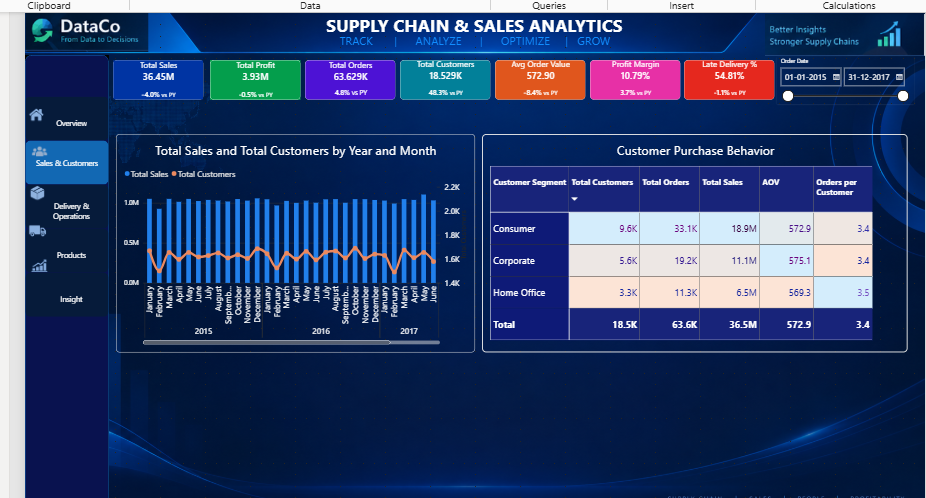

What the dashboard file says about the page in this screenshot:
{"tool":"powerbi","page":{"name":"Sales & Customers","canvas":[1920,1080],"ordinal":1},"visuals":[{"type":"textbox","box":[488,0,940.8,83.2],"z":0},{"type":"group","id":"g1","title":"Group 10","box":[0,88.7,179.2,980],"z":0,"group":"g2"},{"type":"shape","box":[0,88.7,178.7,980],"z":500,"group":"g1"},{"type":"textbox","box":[535.5,42.7,849.1,40.5],"z":1000},{"type":"image","box":[6.4,275.2,50,40],"z":1000,"group":"g2"},{"type":"image","box":[0,0,264.5,83.2],"z":2000},{"type":"slicer","fields":{"Values":["DateTable.Date"]},"box":[1604.2,94.2,292,100],"z":2000},{"type":"image","box":[4.3,192,40,50],"z":2000,"group":"g2"},{"type":"image","box":[1578.7,0,341.3,93.9],"z":3000},{"type":"image","box":[6.4,358.4,40,50],"z":3000,"group":"g2"},{"type":"cardVisual","fields":{"Data":["public dataco_raw.Profit Margin"]},"box":[1920,114.3,192.9,85.7],"z":4000},{"type":"image","box":[6.4,439.5,40,50],"z":4000,"group":"g2"},{"type":"lineStackedColumnComboChart","fields":{"Category":["public dataco_raw.order date (DateOrders).Variation.Date Hierarchy.Year","public dataco_raw.order date (DateOrders).Variation.Date Hierarchy.Month"],"Y":["public dataco_raw.Total Sales"],"Y2":["public dataco_raw.Total Customers"]},"box":[194.3,257.1,766,466],"z":5000},{"type":"image","box":[10.7,514.2,40,50],"z":5000,"group":"g2"},{"type":"pivotTable","title":"Customer Purchase Behavior","fields":{"Rows":["public dataco_raw.Customer Segment"],"Values":["public dataco_raw.Total Customers","Count(public dataco_raw.Order Id)","public dataco_raw.Total Sales","public dataco_raw.AOV","public dataco_raw.Orders per Customer"]},"box":[975.7,257.1,908,466],"z":6000},{"type":"group","id":"g2","title":"Group 11","box":[0,88.7,179.2,980],"z":8000},{"type":"pageNavigator","box":[0,176.9,179.2,475.7],"z":22000,"group":"g1"},{"type":"cardVisual","fields":{"Data":["Sum(public dataco_raw.Sales)"]},"box":[187.5,100.8,193,85],"z":31000},{"type":"cardVisual","fields":{"Data":["Sum(public dataco_raw.Order Profit Per Order)"]},"box":[394.2,100.8,193,85],"z":33000},{"type":"cardVisual","fields":{"Data":["Count(public dataco_raw.Order Id)"]},"box":[597.5,100.8,193,85],"z":35000},{"type":"cardVisual","fields":{"Data":["Count(public dataco_raw.Customer Id)"]},"box":[800.5,100.8,193,85],"z":37000},{"type":"cardVisual","fields":{"Data":["public dataco_raw.AOV"]},"box":[1002.5,100.8,193,85],"z":39000},{"type":"cardVisual","fields":{"Data":["public dataco_raw.Profit Margin"]},"box":[1205.8,100.8,193,85.7],"z":41000},{"type":"cardVisual","fields":{"Data":["public dataco_raw.Late Delivery %"]},"box":[1405.8,100.8,193,85.7],"z":44000}]}

Visuals, with their boxes on the page's 1920x1080 design canvas (x1, y1, x2, y2). These are canvas units, not pixel positions in the 926x498 screenshot, which may show the page scaled, cropped or inside an application window:
textbox: BBox(488, 0, 1429, 83)
"Group 10" group: BBox(0, 89, 179, 1069)
shape: BBox(0, 89, 179, 1069)
textbox: BBox(536, 43, 1385, 83)
image: BBox(6, 275, 56, 315)
image: BBox(0, 0, 264, 83)
slicer - DateTable.Date: BBox(1604, 94, 1896, 194)
image: BBox(4, 192, 44, 242)
image: BBox(1579, 0, 1920, 94)
image: BBox(6, 358, 46, 408)
cardVisual - public dataco_raw.Profit Margin: BBox(1920, 114, 2113, 200)
image: BBox(6, 440, 46, 490)
lineStackedColumnComboChart - public dataco_raw.order date (DateOrders).Variation.Date Hierarchy.Year x public dataco_raw.order date (DateOrders).Variation.Date Hierarchy.Month: BBox(194, 257, 960, 723)
image: BBox(11, 514, 51, 564)
"Customer Purchase Behavior" pivotTable: BBox(976, 257, 1884, 723)
"Group 11" group: BBox(0, 89, 179, 1069)
pageNavigator: BBox(0, 177, 179, 653)
cardVisual - Sum(public dataco_raw.Sales): BBox(188, 101, 380, 186)
cardVisual - Sum(public dataco_raw.Order Profit Per Order): BBox(394, 101, 587, 186)
cardVisual - Count(public dataco_raw.Order Id): BBox(598, 101, 790, 186)
cardVisual - Count(public dataco_raw.Customer Id): BBox(800, 101, 994, 186)
cardVisual - public dataco_raw.AOV: BBox(1002, 101, 1196, 186)
cardVisual - public dataco_raw.Profit Margin: BBox(1206, 101, 1399, 186)
cardVisual - public dataco_raw.Late Delivery %: BBox(1406, 101, 1599, 186)
